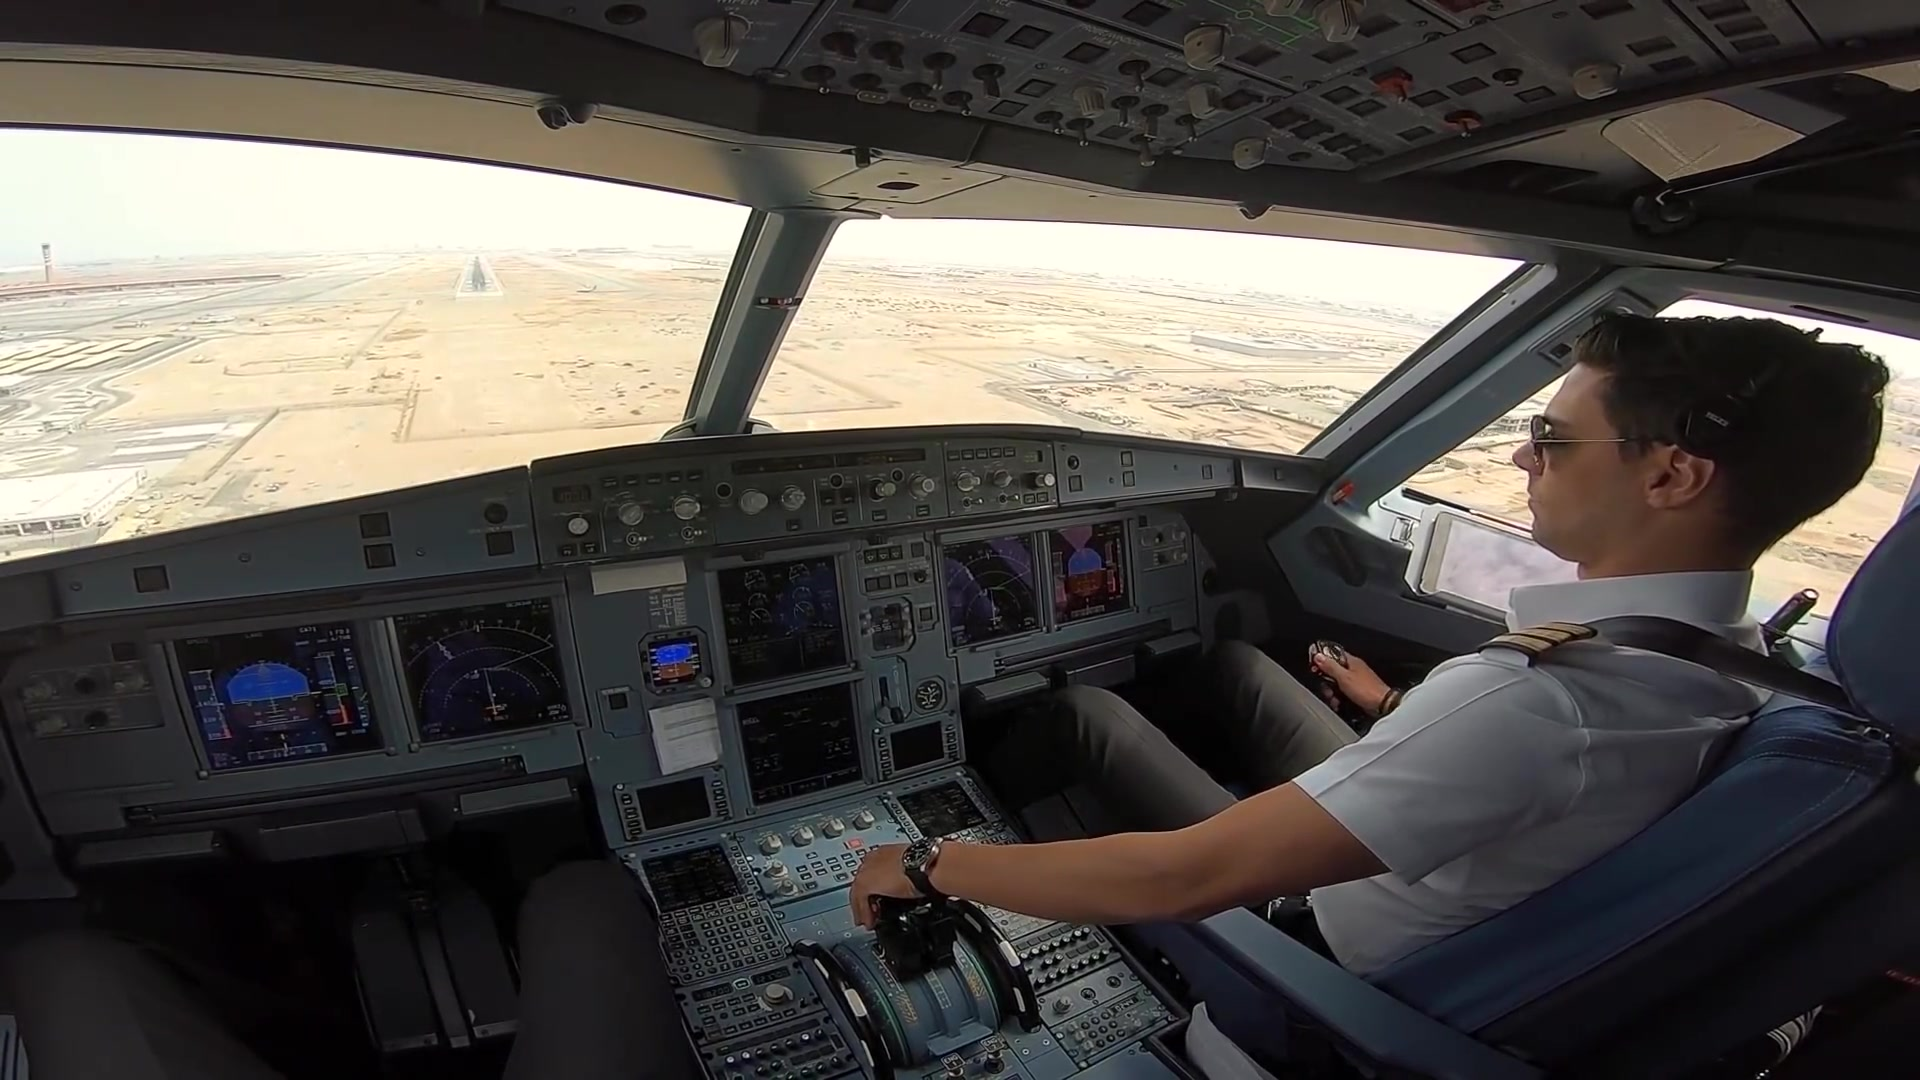runway: (455, 252, 506, 299)
